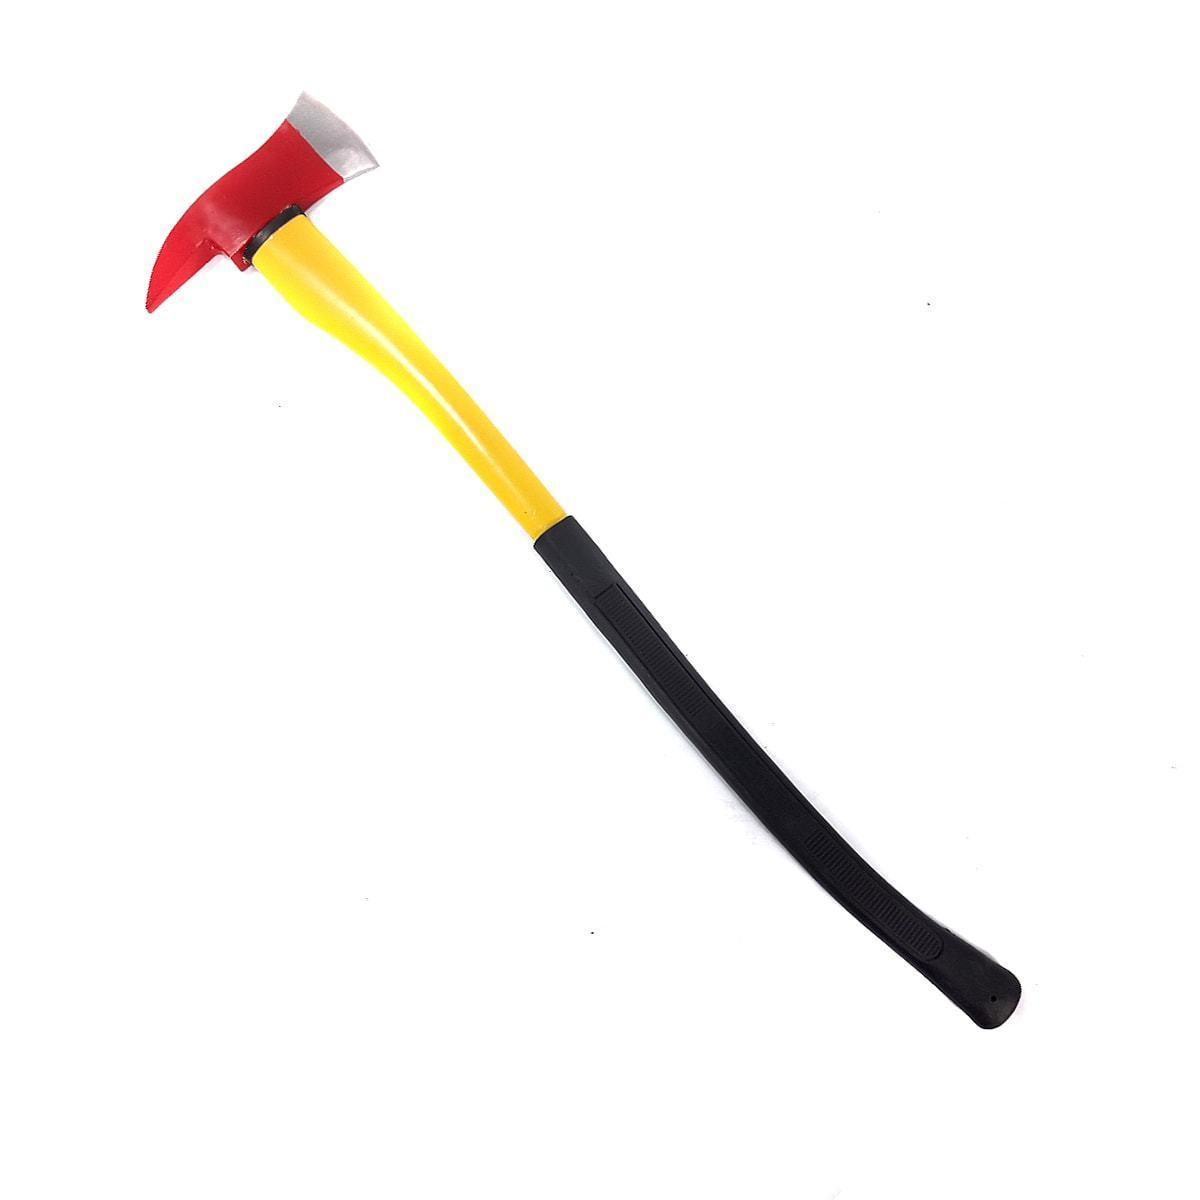machado: (146, 95, 1021, 1027)
